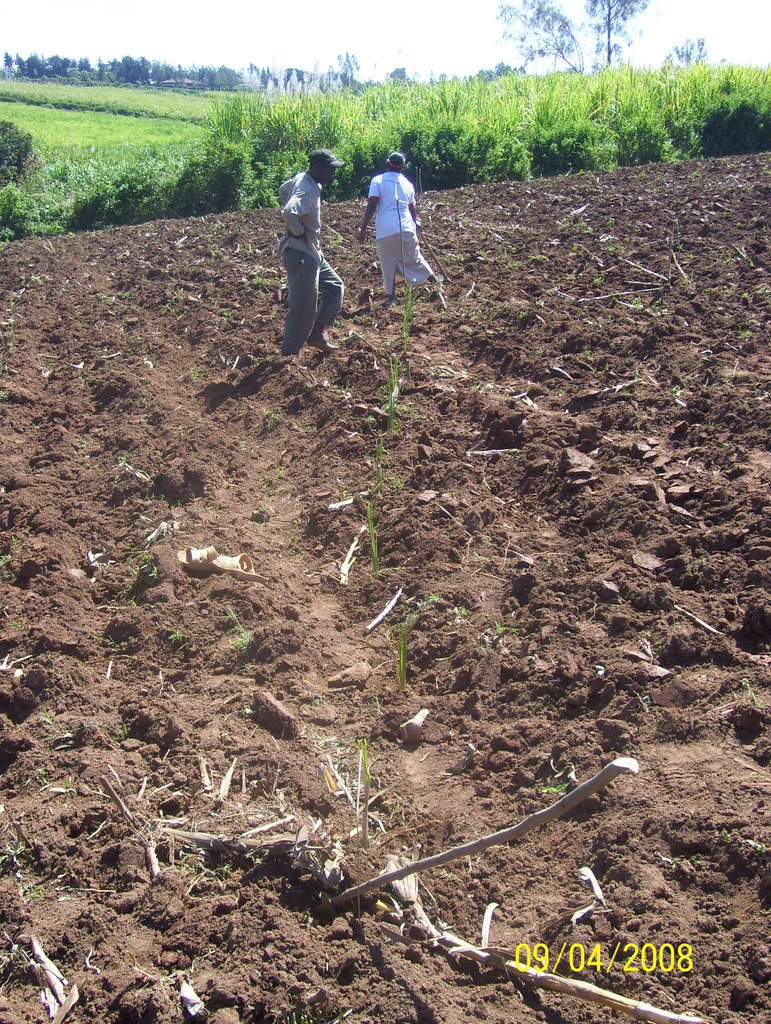Tree: (0, 0, 770, 242)
